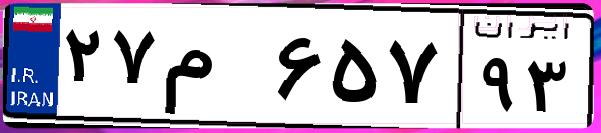2: (57, 26, 110, 100)
3: (525, 38, 570, 115)
5: (330, 28, 385, 110)
6: (270, 28, 330, 110)
7: (385, 28, 445, 110), (110, 28, 158, 98)
9: (475, 38, 525, 113)
م: (158, 20, 270, 120)
